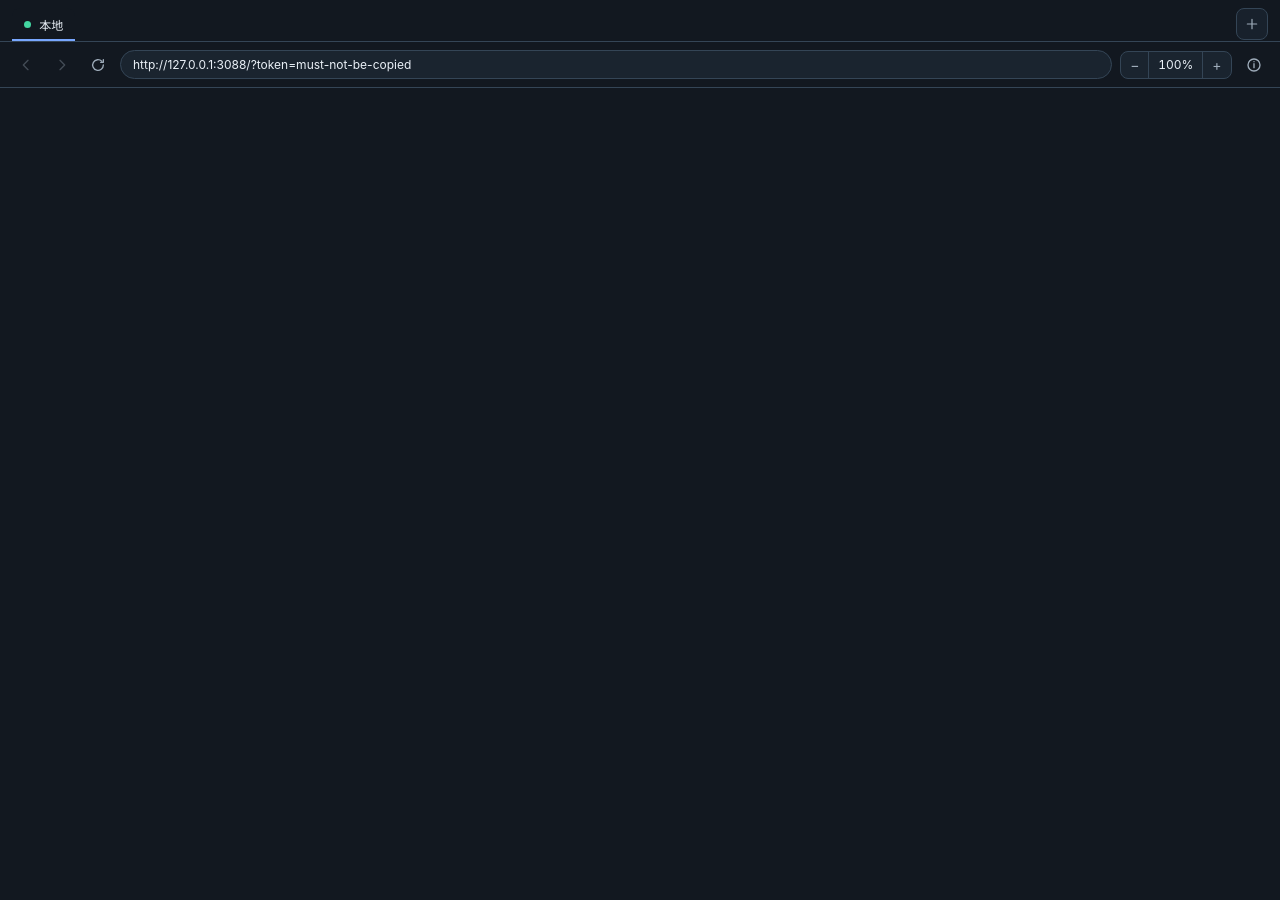
RuntimeTabsPanel rendering controls › closes the add menu with Escape
This screenshot has width=1280, height=900.
Click the button with test id "runtime-add-tab".
click(1252, 24)  # box [1236, 8, 1268, 40]
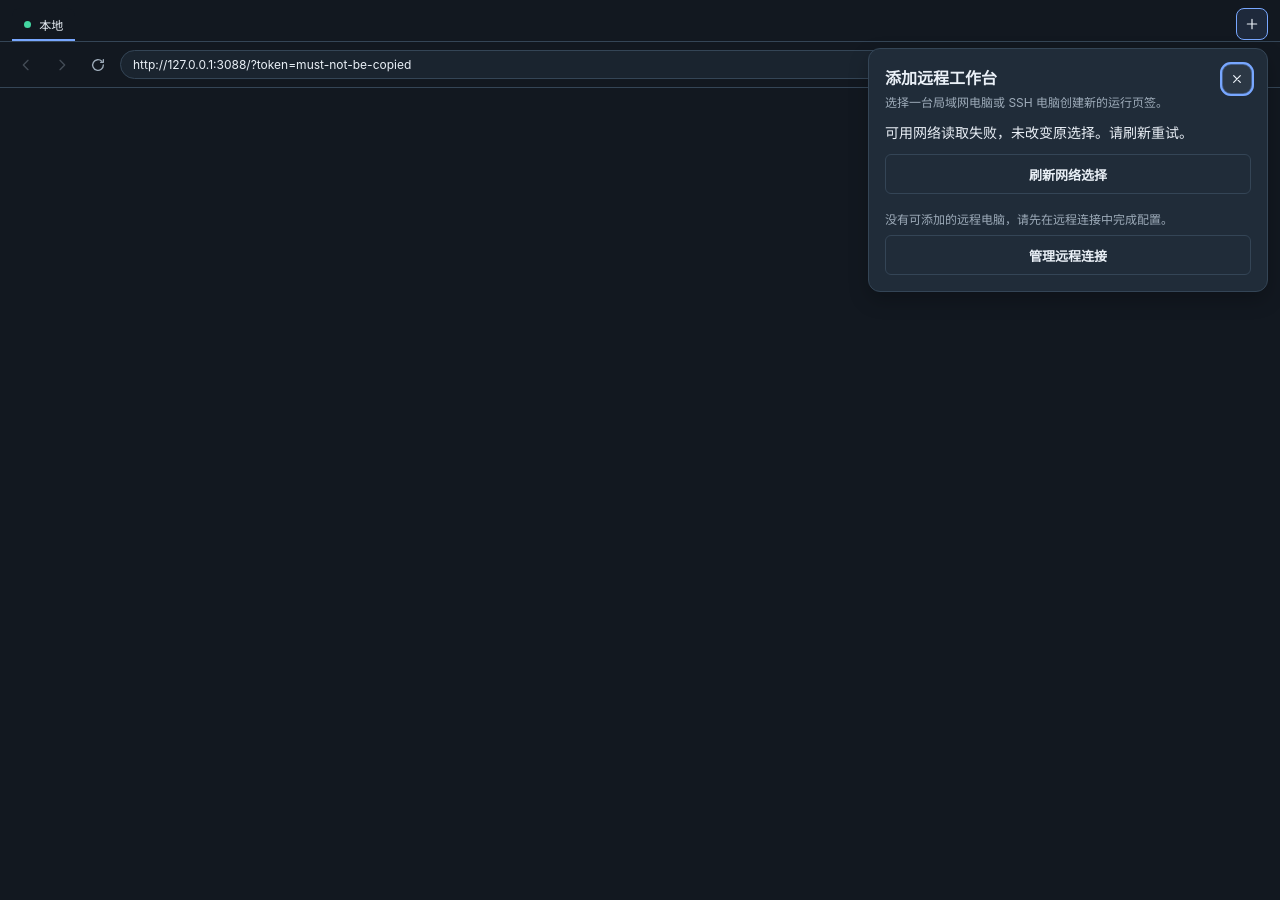
Now the button with test id "runtime-add-tab-close" is shown
Now the button with test id "runtime-add-tab-manage" is shown, box [885, 235, 1251, 275]
Press Tab in the button with test id "runtime-add-tab-close", box [1223, 65, 1251, 93]
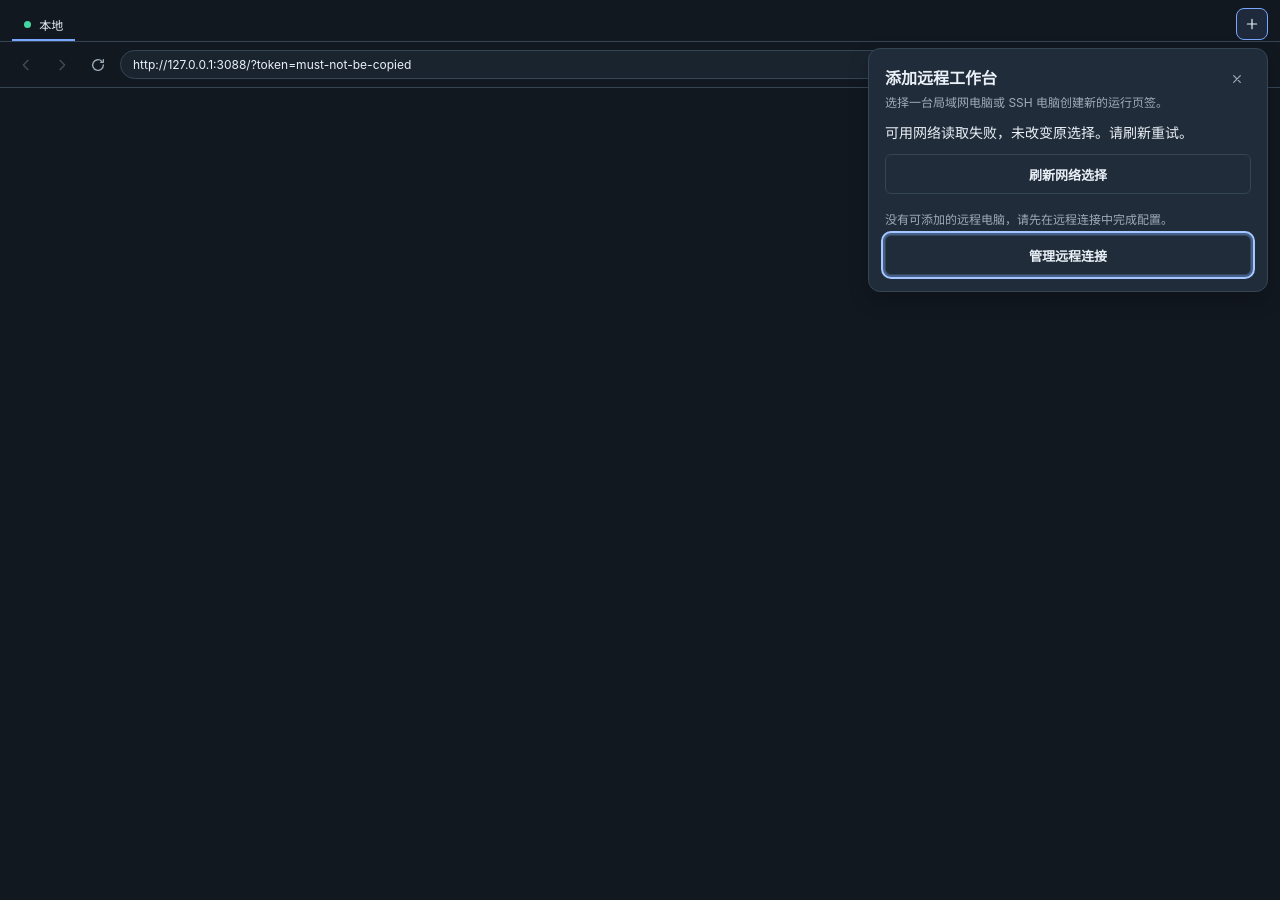
Press Tab in the button with test id "runtime-add-tab-manage", box [885, 235, 1251, 275]
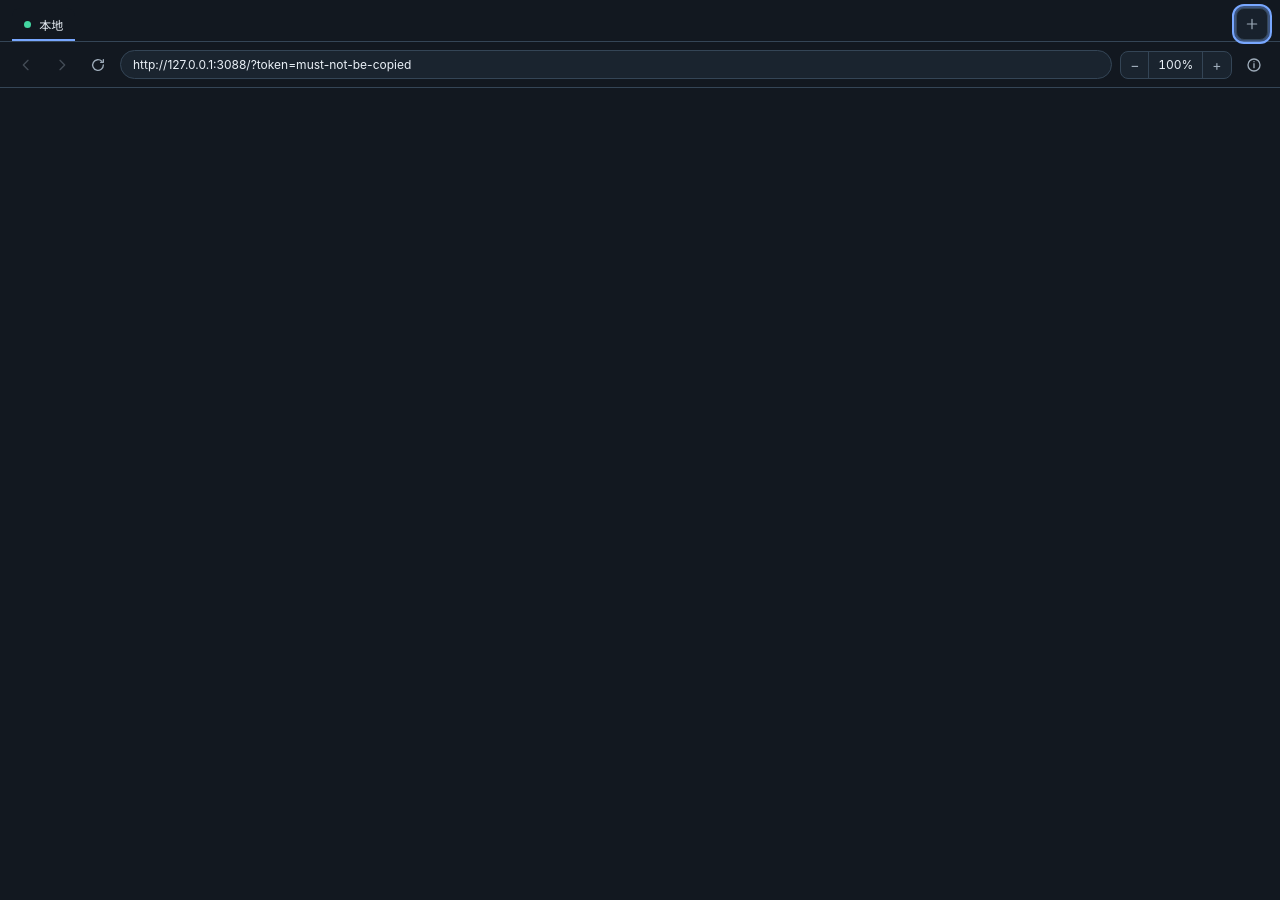
Now the dialog with test id "runtime-add-tab-menu" is gone
Click the button with test id "runtime-add-tab".
click(1252, 24)  # box [1236, 8, 1268, 40]
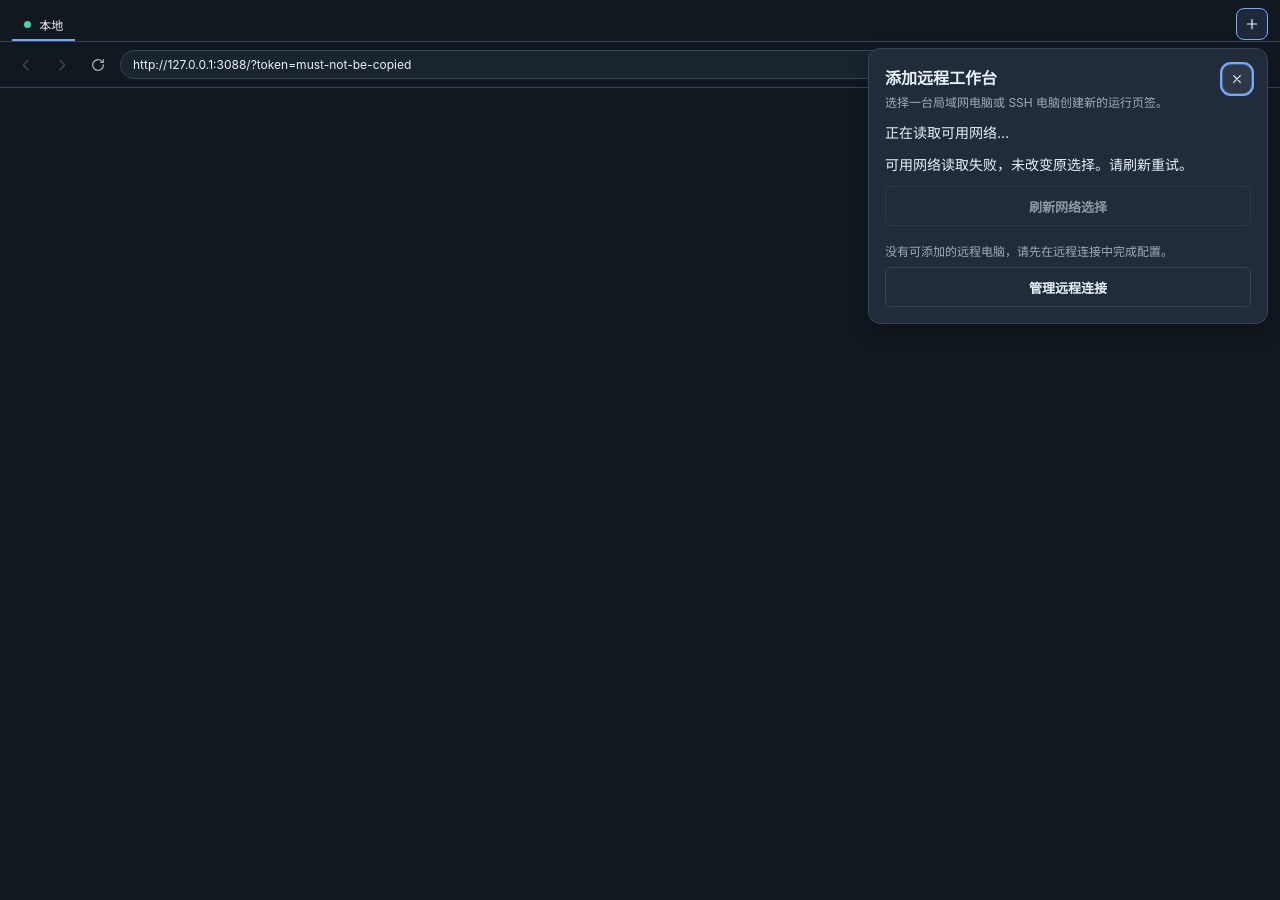
Now the dialog with test id "runtime-add-tab-menu" is shown
Press Escape in the dialog with test id "runtime-add-tab-menu", box [868, 48, 1268, 324]
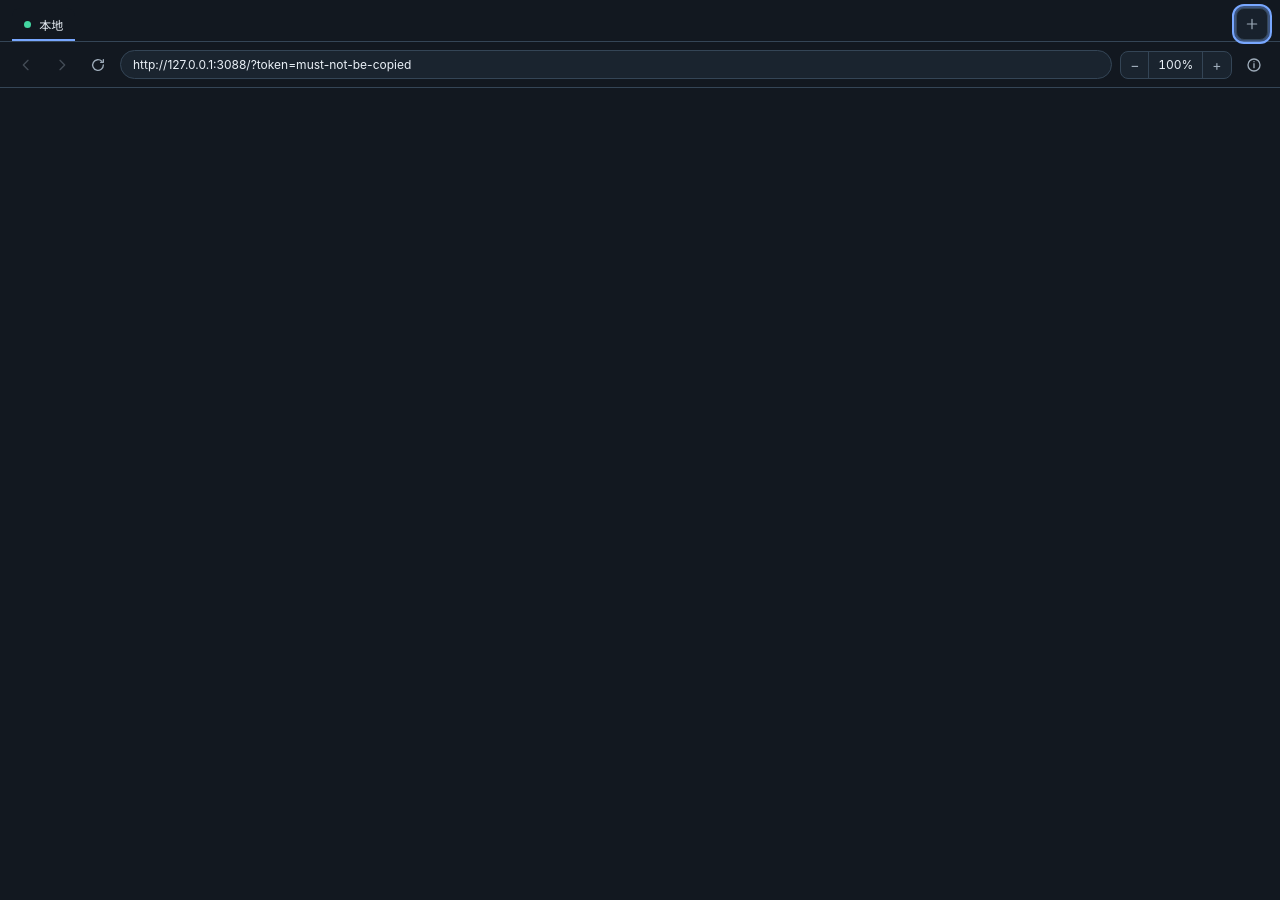
Now the dialog with test id "runtime-add-tab-menu" is gone
